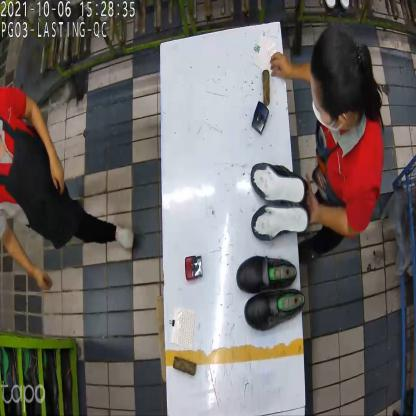shoes: (236, 252, 305, 334), (248, 160, 309, 242)
stamp: (182, 249, 204, 284), (252, 99, 270, 134)
